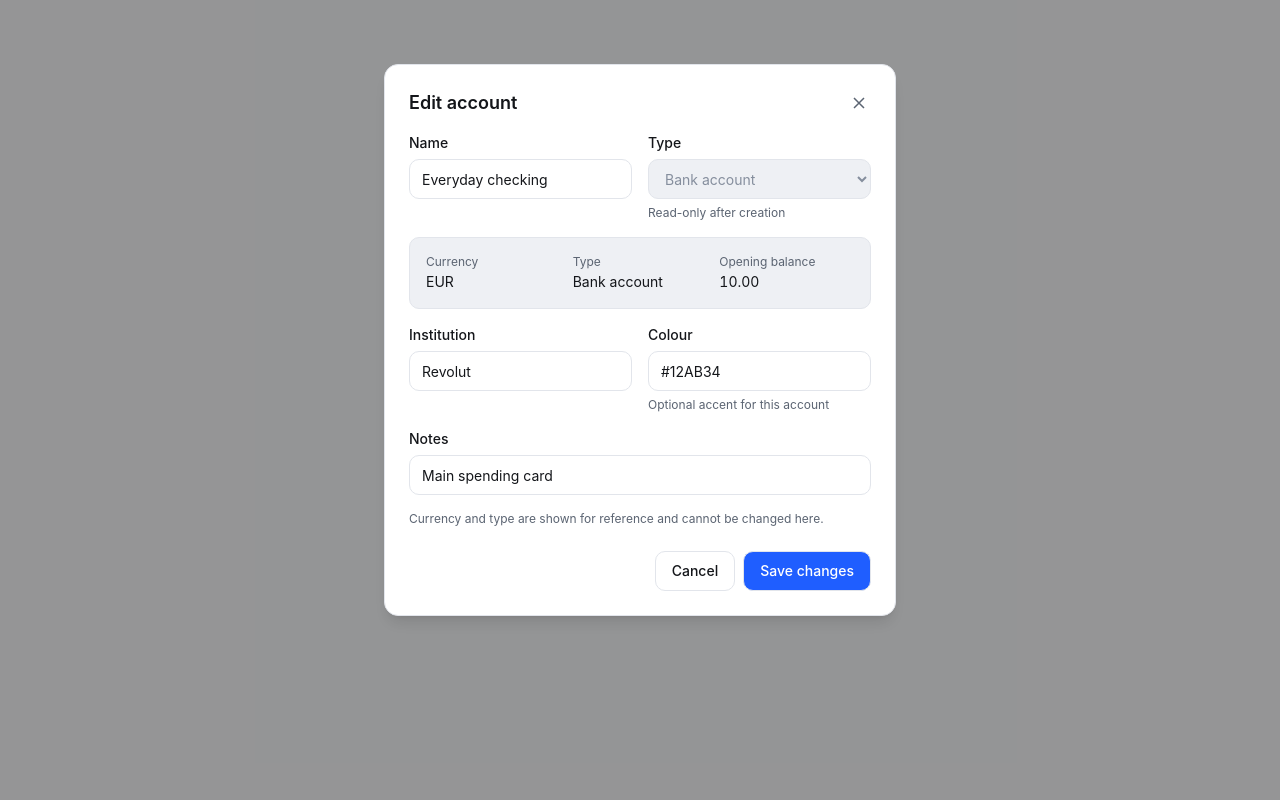
Test: AccountFormModal edit mode › saves an edited name despite the create-only fields being empty
Expected: the dropdown labelled "Type" is disabled, x1=648 y1=159 x2=871 y2=199
Step 1. Type "Everyday checking v2" into the field labelled "Name" → coordinates (520, 179), box x1=409 y1=159 x2=632 y2=199
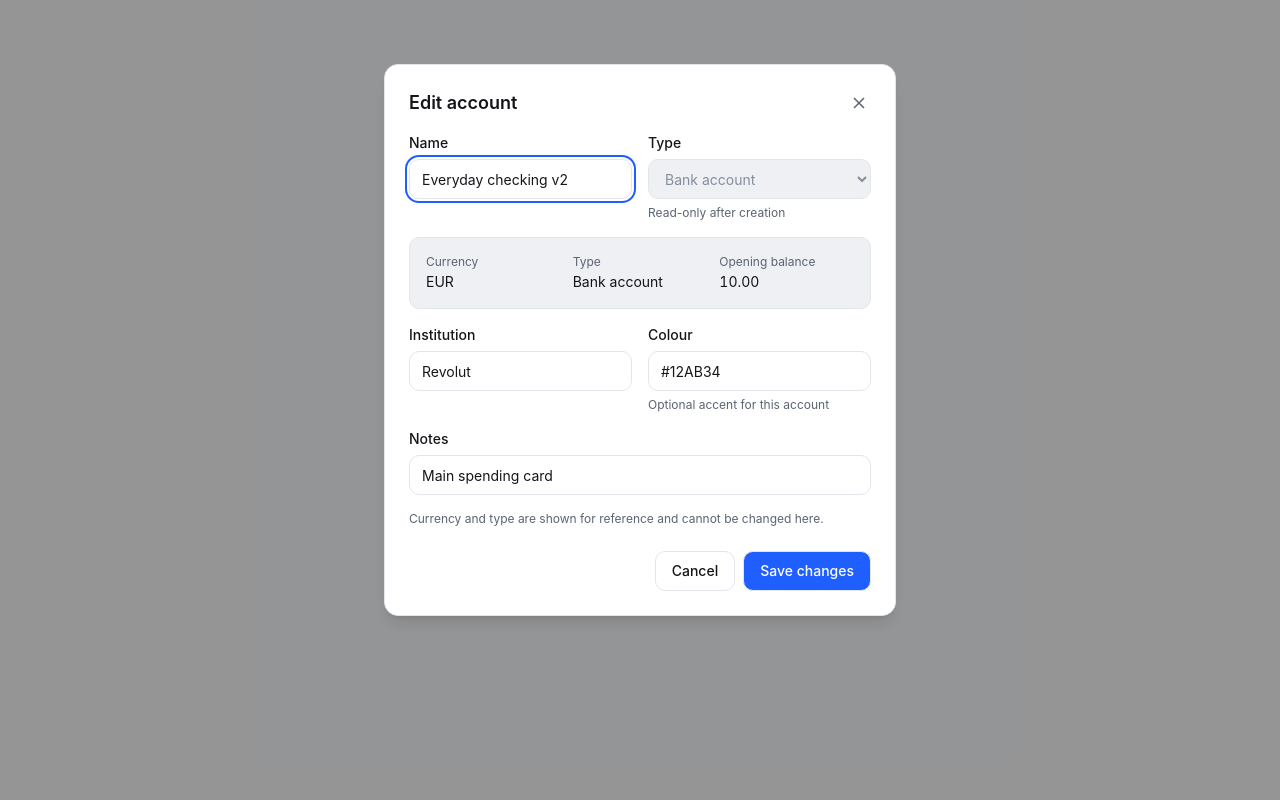
Step 2. Click the button "Save changes" → coordinates (807, 571), box x1=743 y1=551 x2=871 y2=591
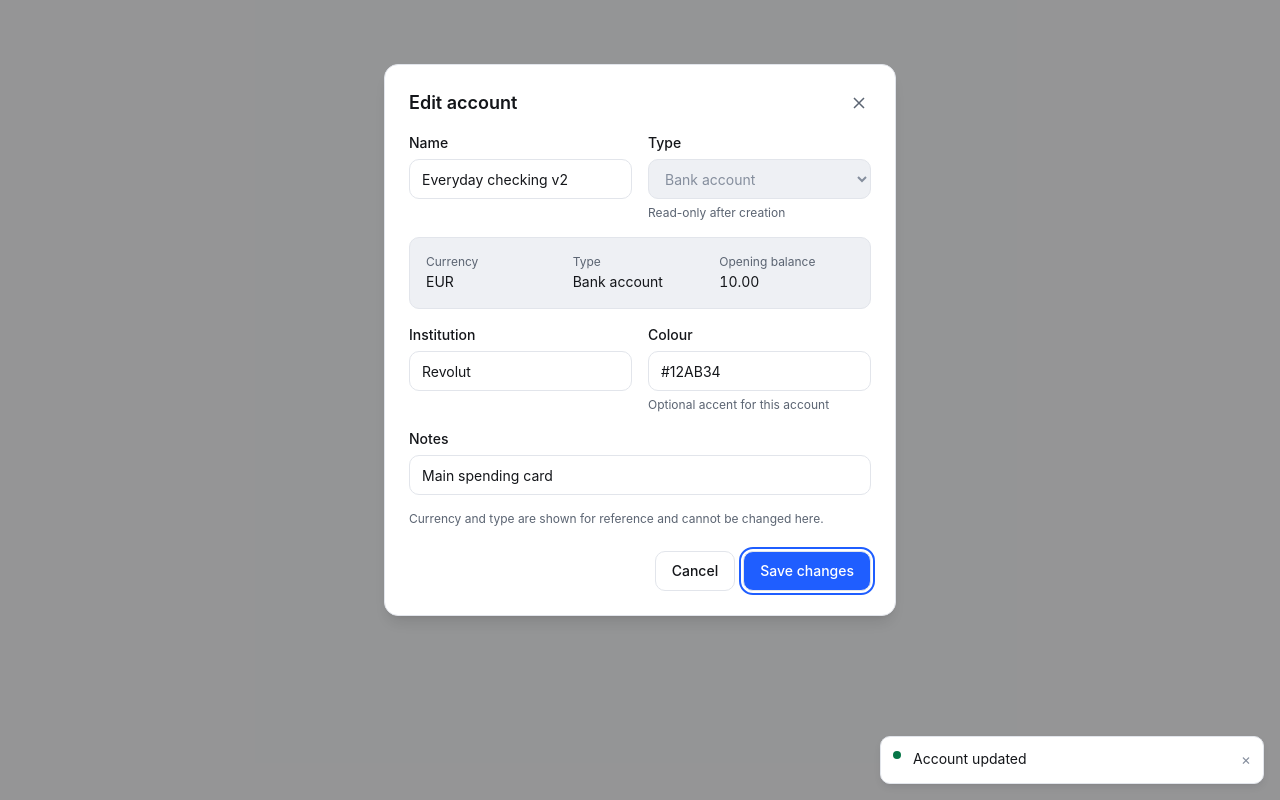
Now the text "Account updated" is shown, box x1=913 y1=750 x2=1027 y2=766
